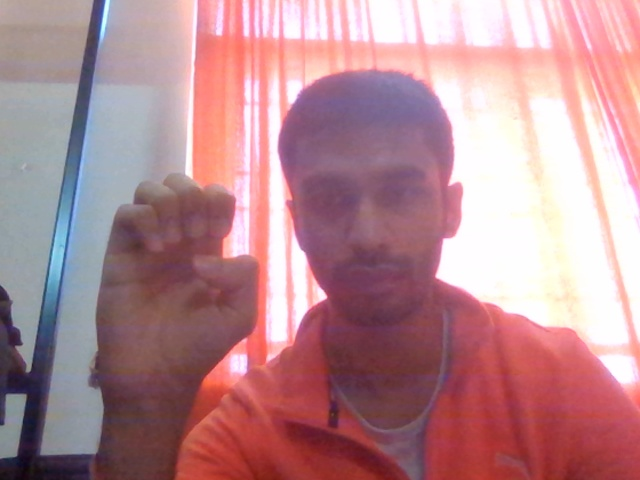E: (83, 169, 270, 437)
